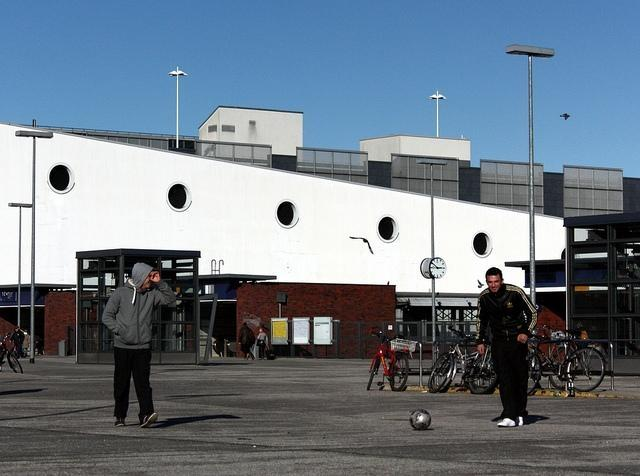bicycle: (527, 329, 608, 397), (431, 322, 496, 392), (366, 326, 412, 390), (0, 333, 23, 374)
